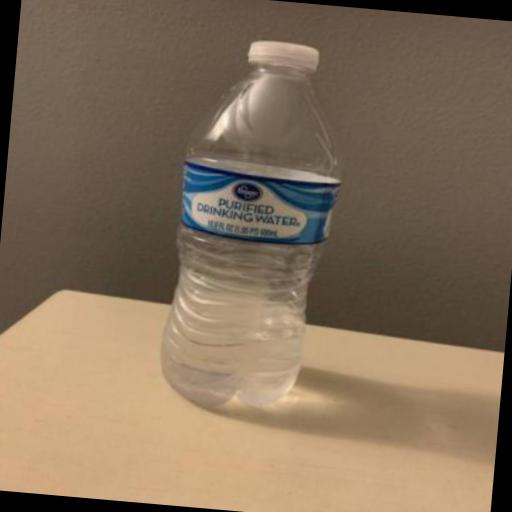Coca: (148, 24, 362, 426)
